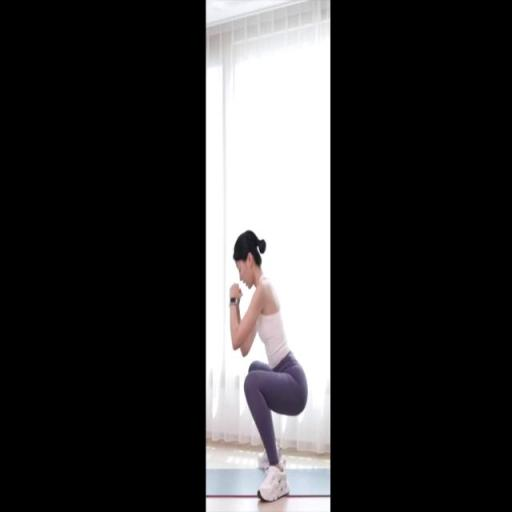Normal_BrenchPress: (228, 230, 309, 503)
